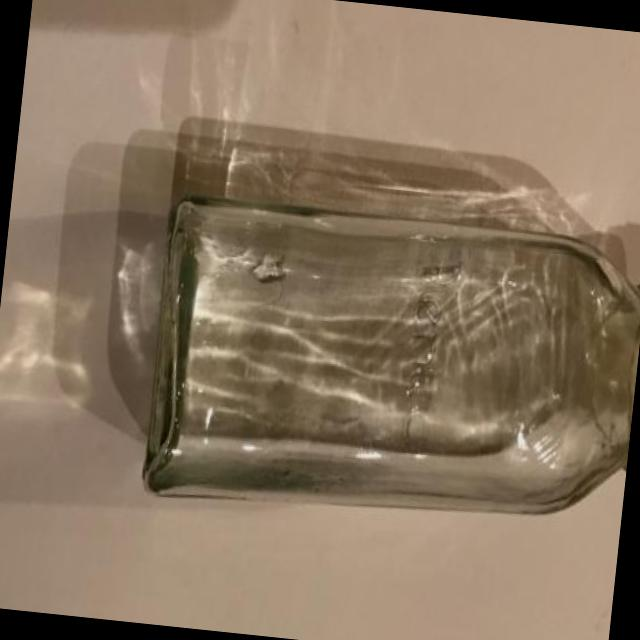chai_thuy_tinh: (146, 202, 640, 516)
